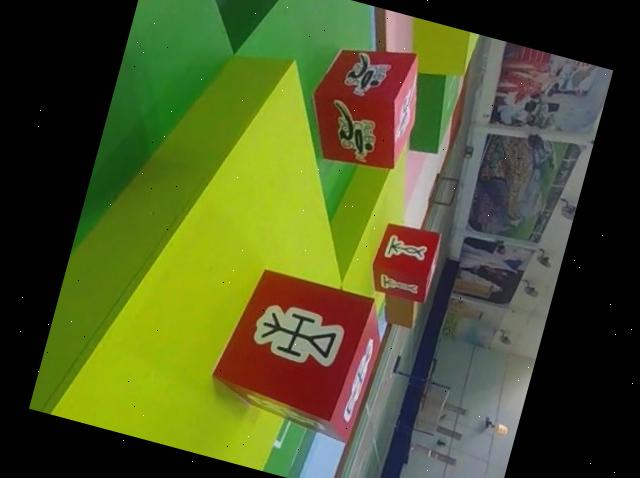R1: (299, 29, 425, 177)
R2 Real: (202, 260, 388, 441), (365, 216, 440, 305)
